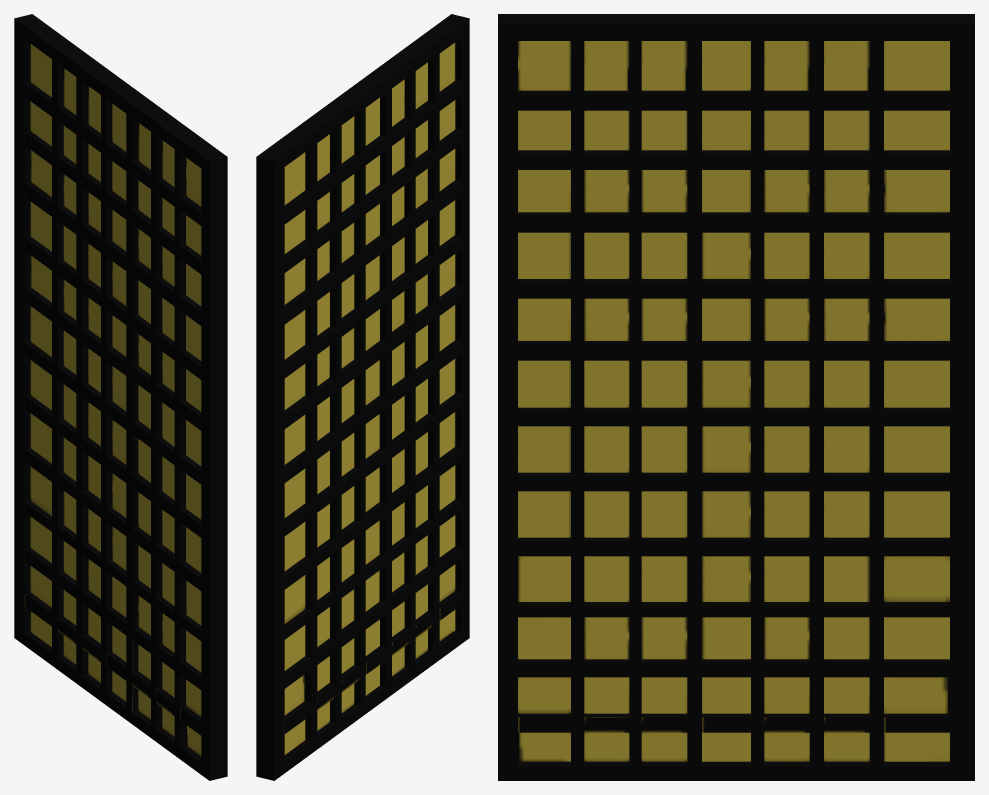
Rendered from Door.obj.
3 renders of one model, left to right at view 1: azimuth 30°, elevation 25°; view 2: azimuth 150°, elevation 25°; view 3: azimuth 270°, elevation 25°, orthographic. The views are drawn at different scales.
Parts seen in each view (by area): view 1: pCube36_Mesh.079; view 2: pCube36_Mesh.079; view 3: pCube36_Mesh.079.
Boxes of the visible parts, left/top/right/bottom form: pCube36_Mesh.079: left=14, top=14, right=227, bottom=780; pCube36_Mesh.079: left=256, top=14, right=469, bottom=780; pCube36_Mesh.079: left=498, top=14, right=974, bottom=780.
Bounding box in the file's own units: 0.0856 × 2.79 × 1.59.
